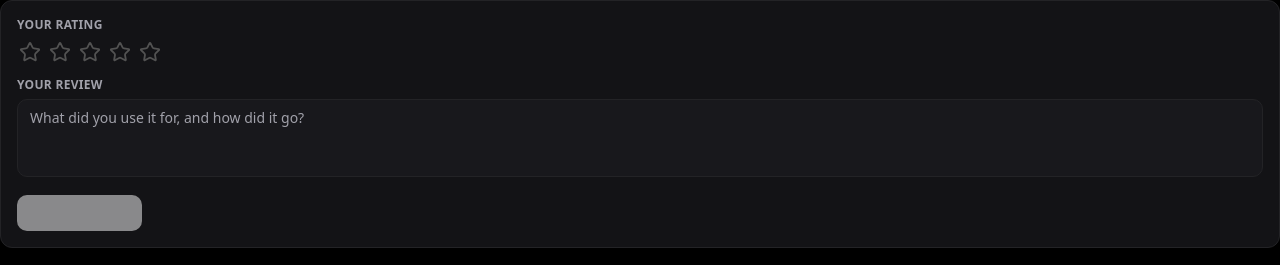
Test: ReviewForm › enables submit button when star is clicked
Click the radio button named "4 stars": (120, 52) x1=107 y1=39 x2=133 y2=65
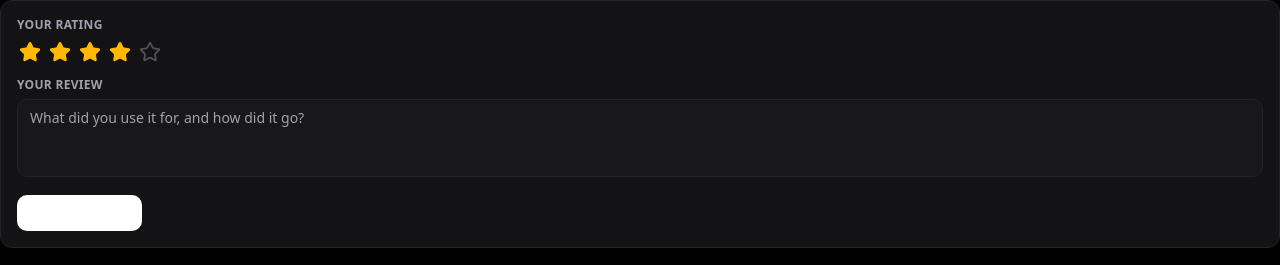
Result: the button "Submit review" is enabled at x1=17 y1=195 x2=142 y2=231
